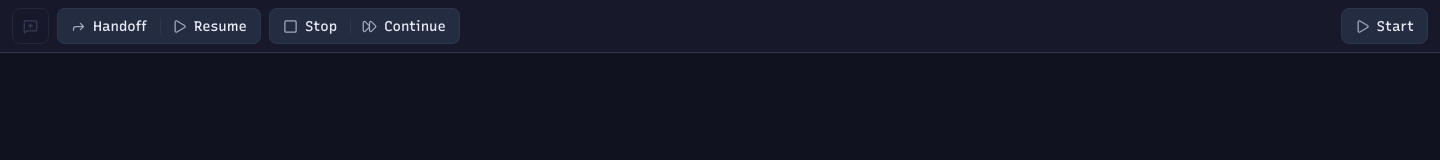
Test: ActionBar › opens context menu on right click of custom action button and copies command to clipboard
Right-click the button "Start".
right_click(1384, 26)  # box [1344,11,1425,41]
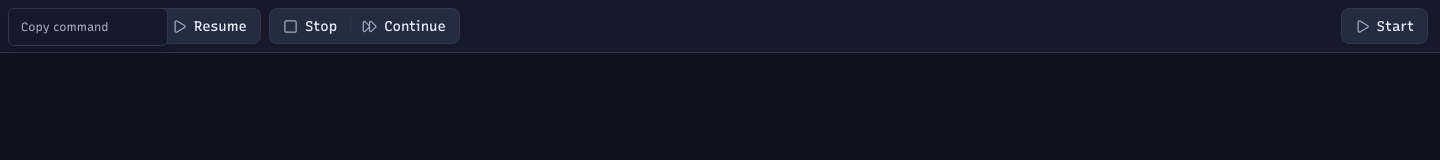
Expected: the element with test id "action-context-menu" is shown, [8,8,168,46]
Expected: the menu item with test id "action-context-copy-command" reads "Copy command"
Click the menu item with test id "action-context-copy-command".
click(88, 27)  # box [9,13,167,41]
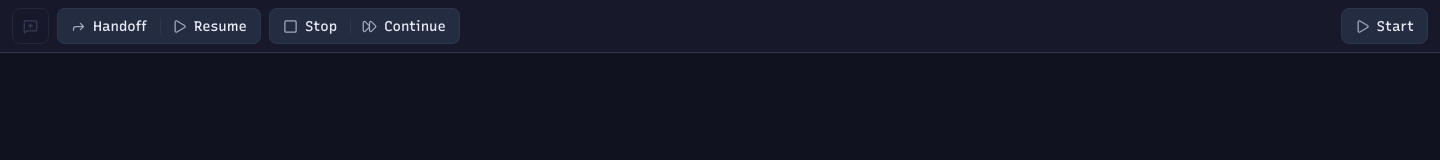
Expected: the element with test id "action-context-menu" is gone
